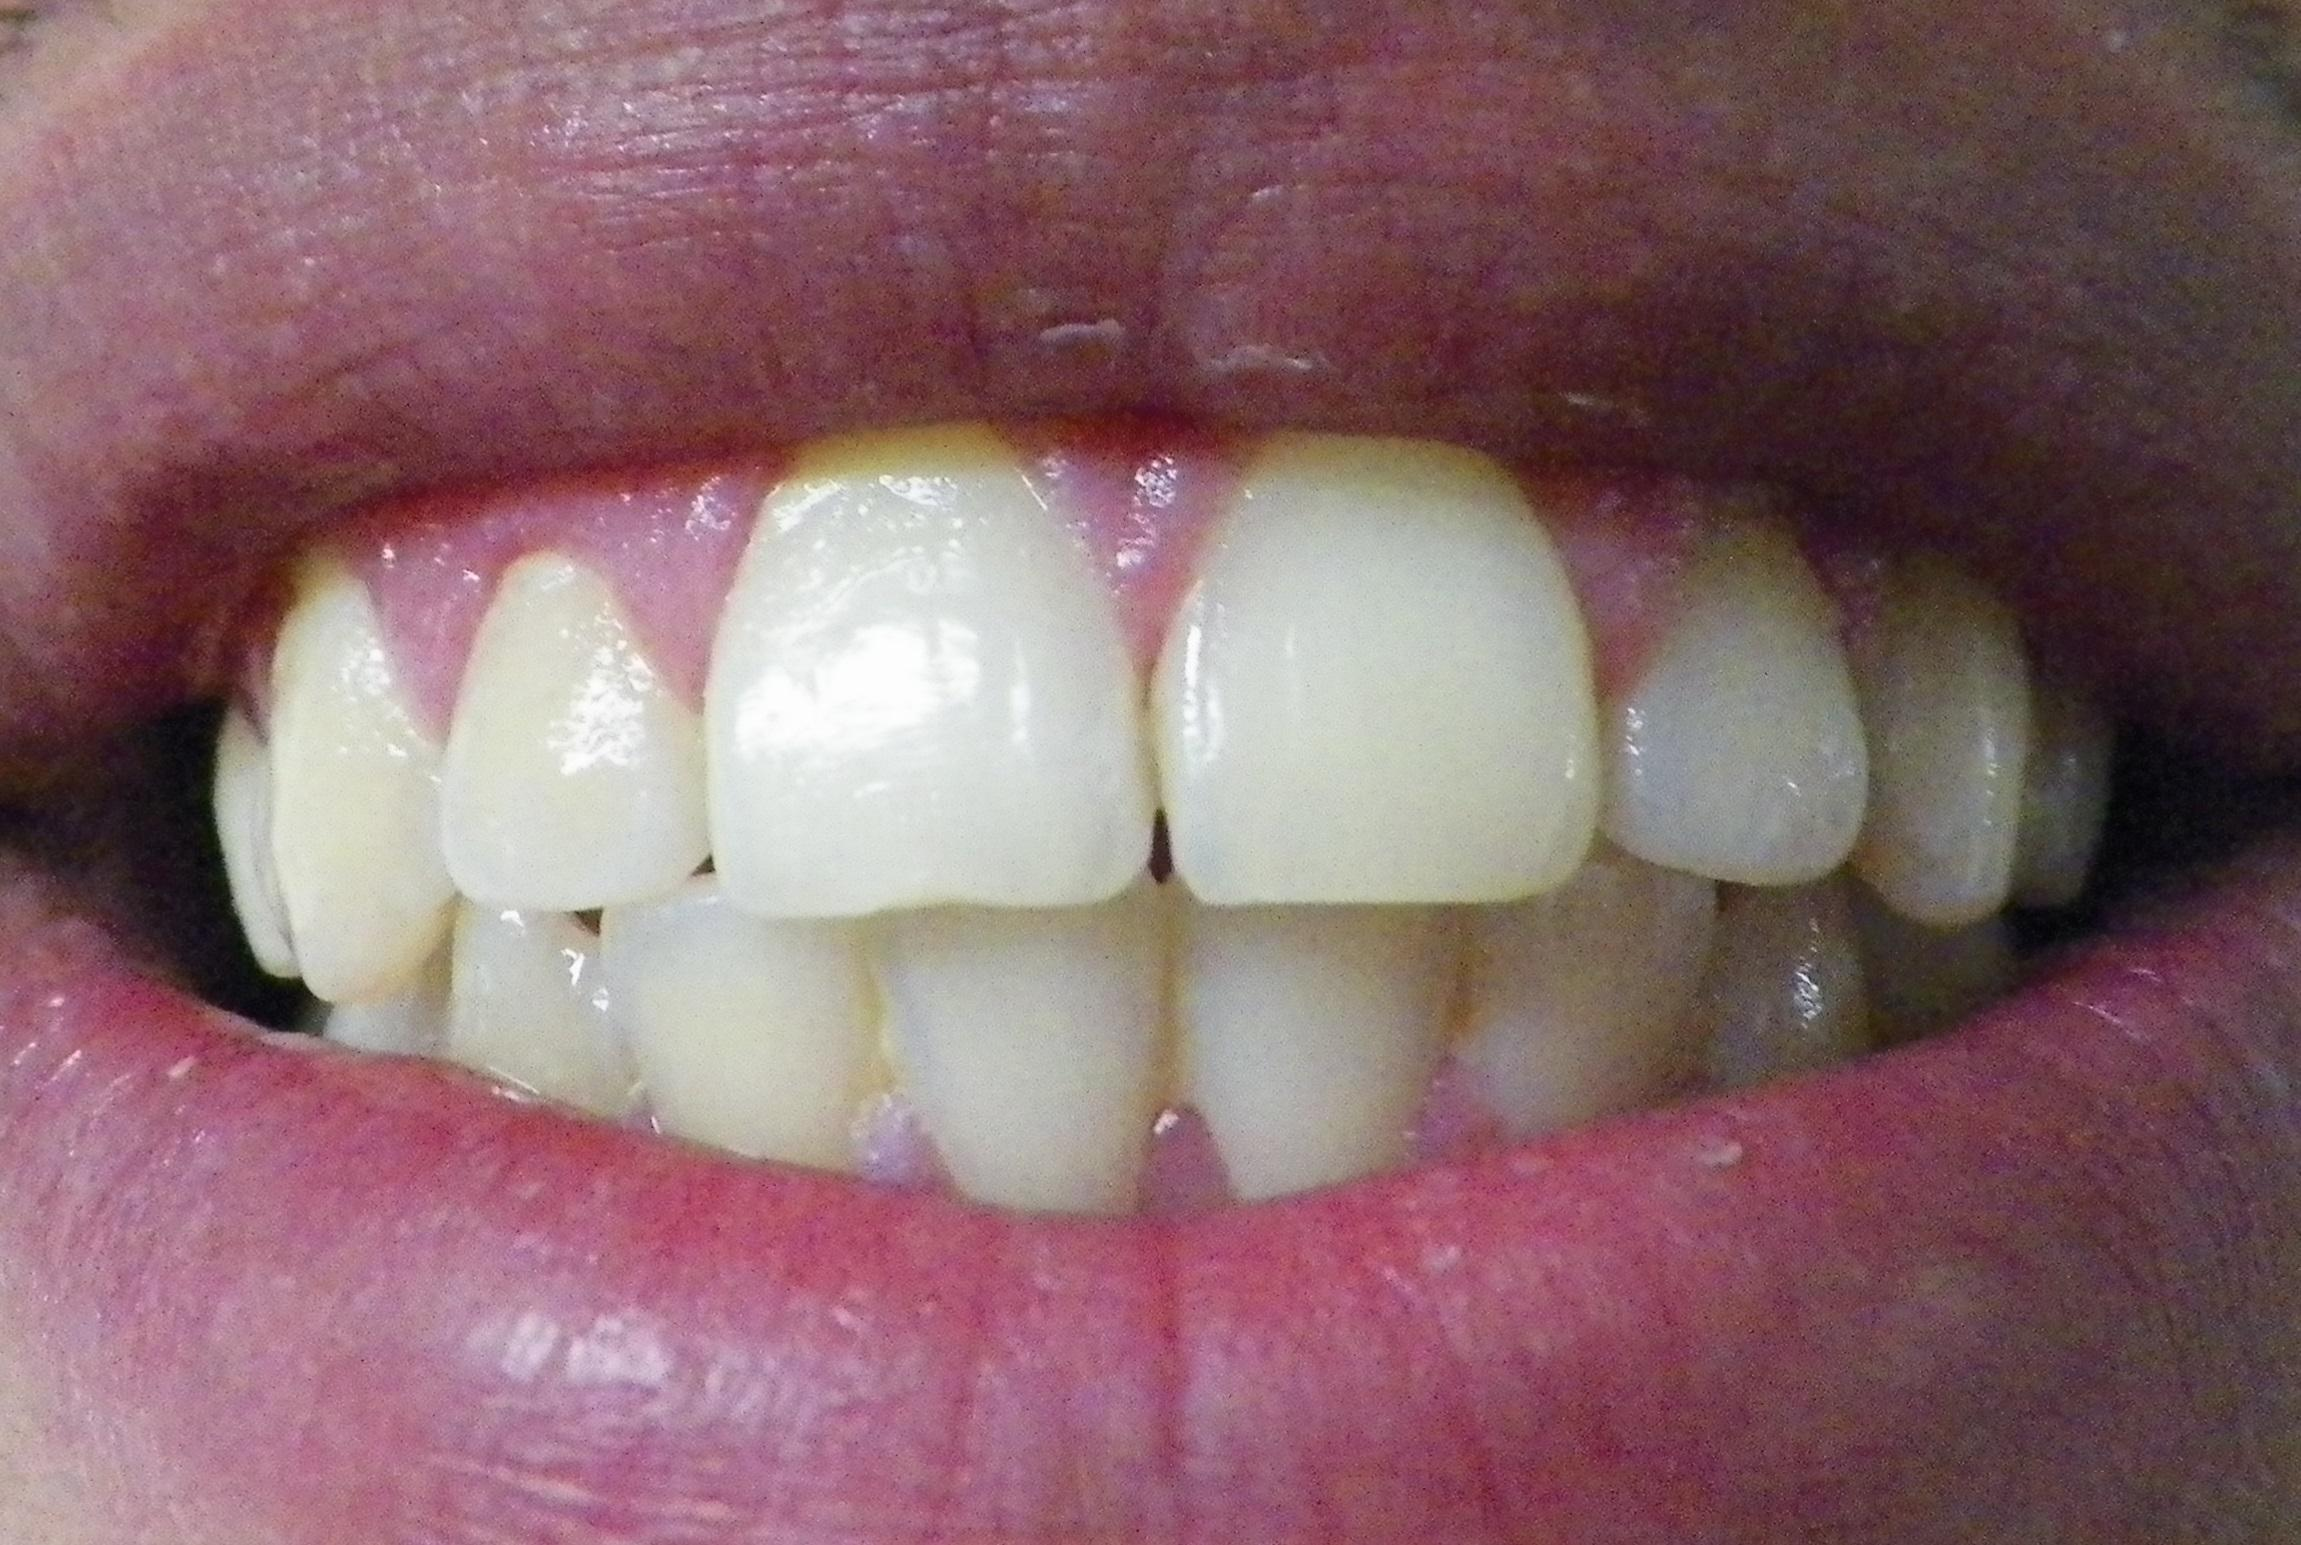cavity: (421, 536, 717, 929), (252, 522, 464, 1035)
normal: (695, 383, 1169, 962), (1141, 393, 1615, 952), (1551, 460, 1894, 912), (843, 817, 1170, 1250), (588, 828, 926, 1197), (1155, 866, 1475, 1210), (1824, 486, 2061, 945), (1437, 817, 1725, 1154), (1967, 560, 2158, 945), (410, 883, 641, 1150), (1694, 862, 1924, 1121), (202, 621, 303, 1005)
